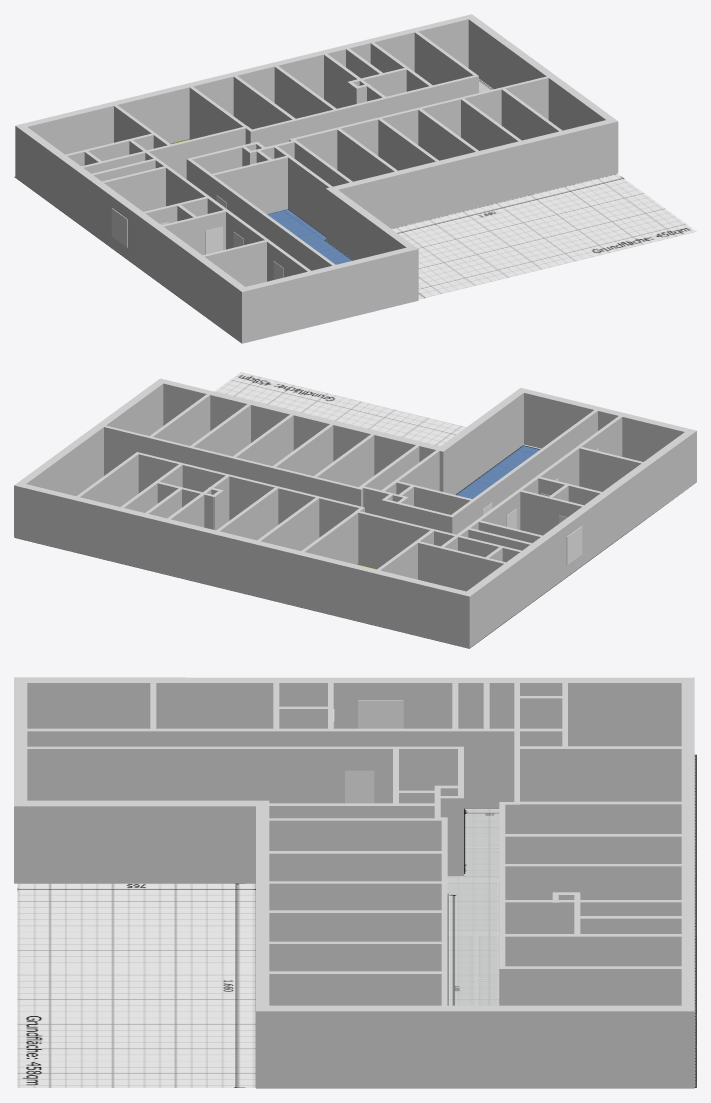
Rendered from XRTechHeadquarter.fbx.
3 renders of one model, top to bottom at view 1: azimuth 30°, elevation 25°; view 2: azimuth 150°, elevation 25°; view 3: azimuth 270°, elevation 25°, orthographic. The views are drawn at different scales.
Visible parts, largest first — view 1: Walls, TopLevel.001; view 2: Walls, TopLevel.001, CTRL_Hole.006; view 3: Walls, TopLevel.001, CTRL_Hole.006, CTRL_Hole.005.
Boxes of the visible parts, bbox=[...] form: Walls: bbox=[15, 14, 618, 343]; TopLevel.001: bbox=[14, 79, 696, 329]; Walls: bbox=[14, 378, 696, 648]; TopLevel.001: bbox=[14, 372, 677, 648]; CTRL_Hole.006: bbox=[566, 526, 582, 565]; Walls: bbox=[14, 677, 694, 1088]; TopLevel.001: bbox=[17, 754, 696, 1087]; CTRL_Hole.006: bbox=[358, 700, 403, 728]; CTRL_Hole.005: bbox=[345, 770, 374, 803].
Bounding box in the file's own units: 2683 × 300 × 2318.
